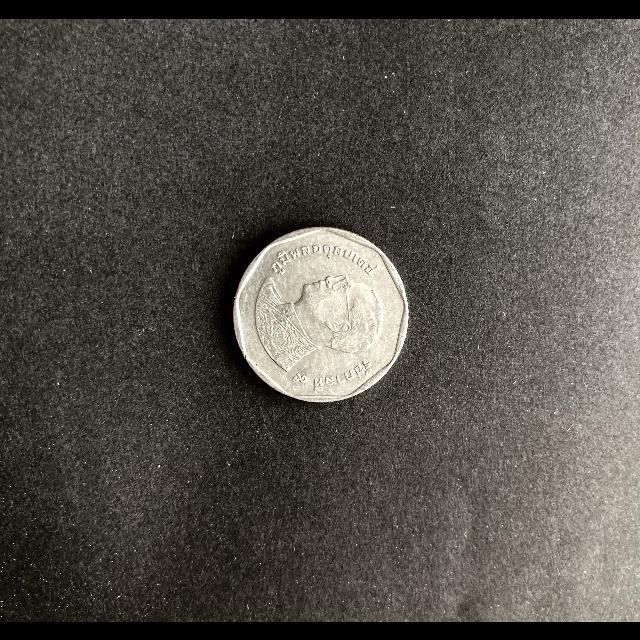5 Bath: (233, 226, 413, 408)
